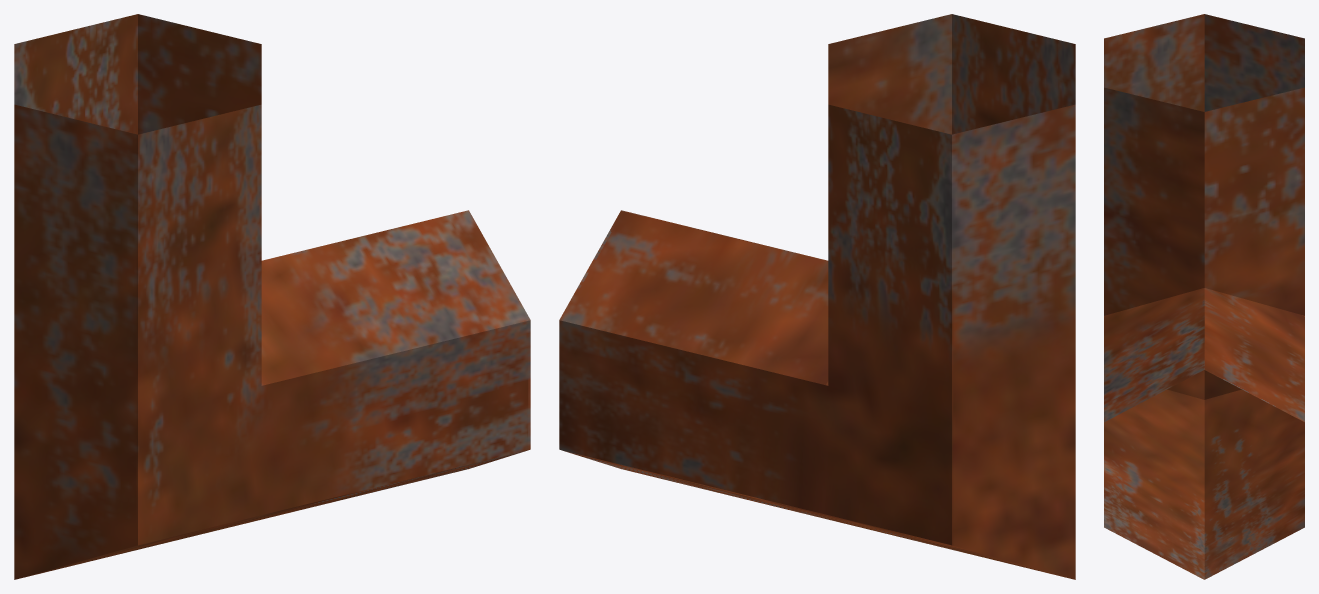
File: 90 sin uniones .fbx
3 renders of one model, left to right at view 1: azimuth 30°, elevation 25°; view 2: azimuth 150°, elevation 25°; view 3: azimuth 270°, elevation 25°, orthographic. The views are drawn at different scales.
Parts seen in each view (by area): view 1: 90 s/ uniones; view 2: 90 s/ uniones; view 3: 90 s/ uniones.
Part boxes in pixels (x1=…): 90 s/ uniones: x1=14, y1=14, x2=530, y2=579; 90 s/ uniones: x1=559, y1=14, x2=1075, y2=579; 90 s/ uniones: x1=1104, y1=14, x2=1304, y2=579.
Bounding box in the file's own units: 4.39 × 4.39 × 2.07.
